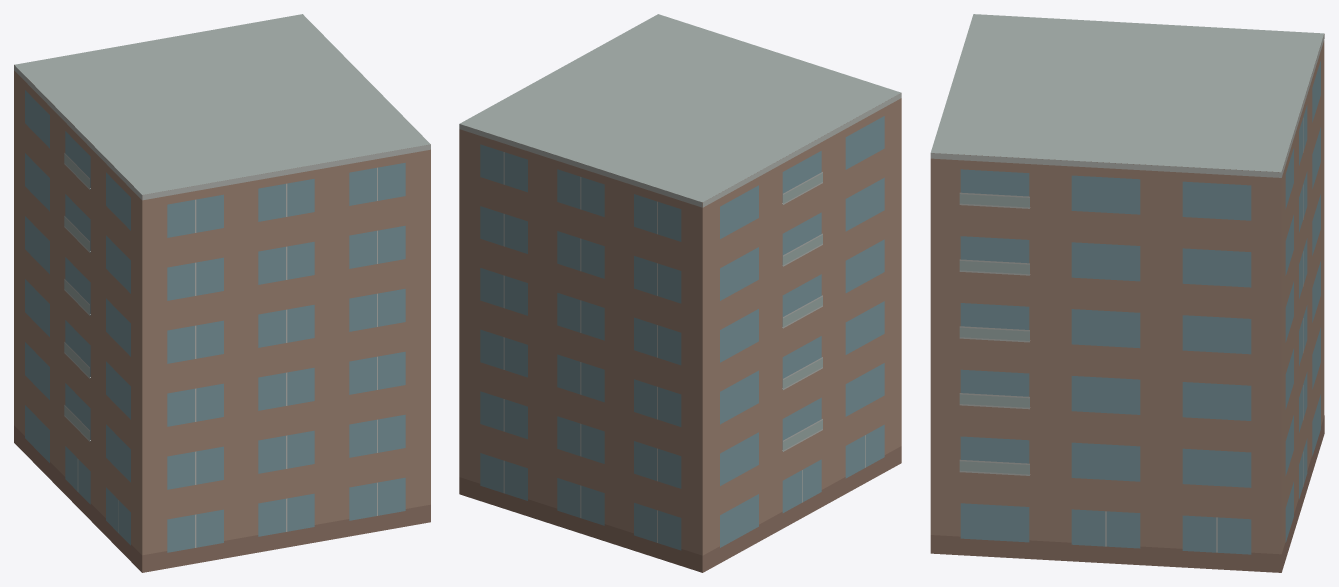
The model's file is survey-upis-32570068.glb.
3 views of the same model, side by side, from view 1: azimuth 30°, elevation 25°; view 2: azimuth 150°, elevation 25°; view 3: azimuth 270°, elevation 25° (orthographic). The views are drawn at different scales.
Parts seen in each view (by area): view 1: survey-upis-32570068.tmp; view 2: survey-upis-32570068.tmp; view 3: survey-upis-32570068.tmp.
Boxes of the visible parts, <box> form: survey-upis-32570068.tmp: <box>14,14,430,572</box>; survey-upis-32570068.tmp: <box>459,14,901,572</box>; survey-upis-32570068.tmp: <box>930,14,1324,572</box>.
Bounding box in the file's own units: 14.49 × 17.1 × 15.24.
